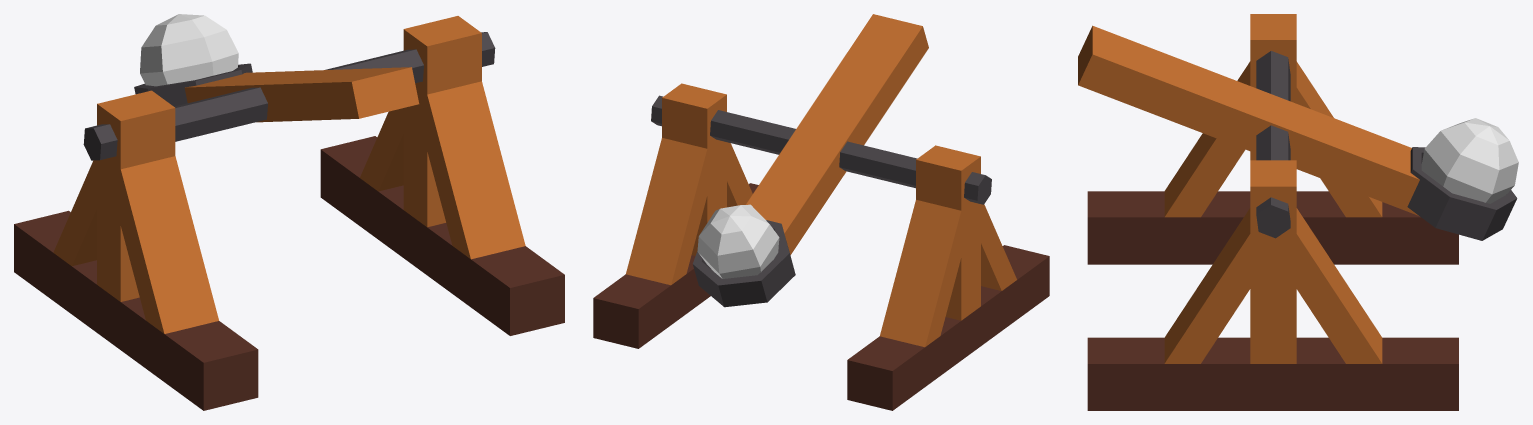
The model's file is catapult.fbx.
3 views of the same model, side by side, from view 1: azimuth 30°, elevation 25°; view 2: azimuth 150°, elevation 25°; view 3: azimuth 270°, elevation 25° (orthographic). The views are drawn at different scales.
Visible parts, largest first — view 1: Cube, Cube.001, Cylinder, Sphere; view 2: Cube, Cylinder, Cube.001, Sphere; view 3: Cube.001, Cylinder, Cube, Sphere.
Part boxes in pixels (x1,y1,x2,y2): Cube: (14, 90, 258, 410); Cube.001: (320, 16, 564, 335); Cylinder: (83, 32, 495, 160); Sphere: (140, 14, 238, 86); Cube: (847, 145, 1049, 410); Cylinder: (651, 14, 991, 307); Cube.001: (593, 83, 758, 348); Sphere: (697, 204, 779, 278); Cube.001: (1087, 160, 1458, 410); Cylinder: (1078, 25, 1517, 240); Cube: (1087, 14, 1458, 264); Sphere: (1421, 118, 1518, 203).
Size of the model in its own units: 180 by 127 by 178.
